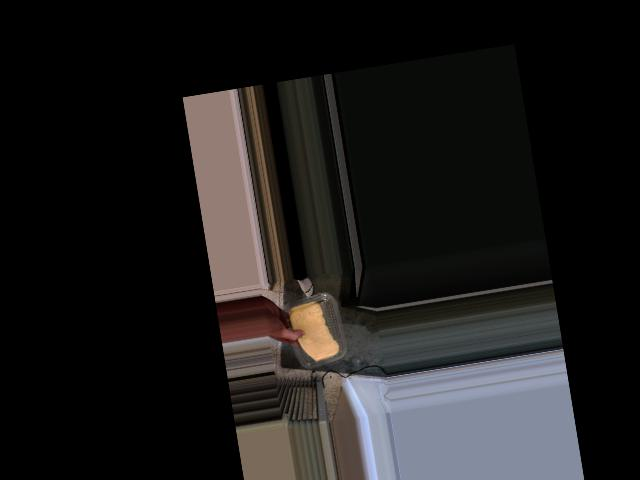cheese: (282, 292, 344, 370)
